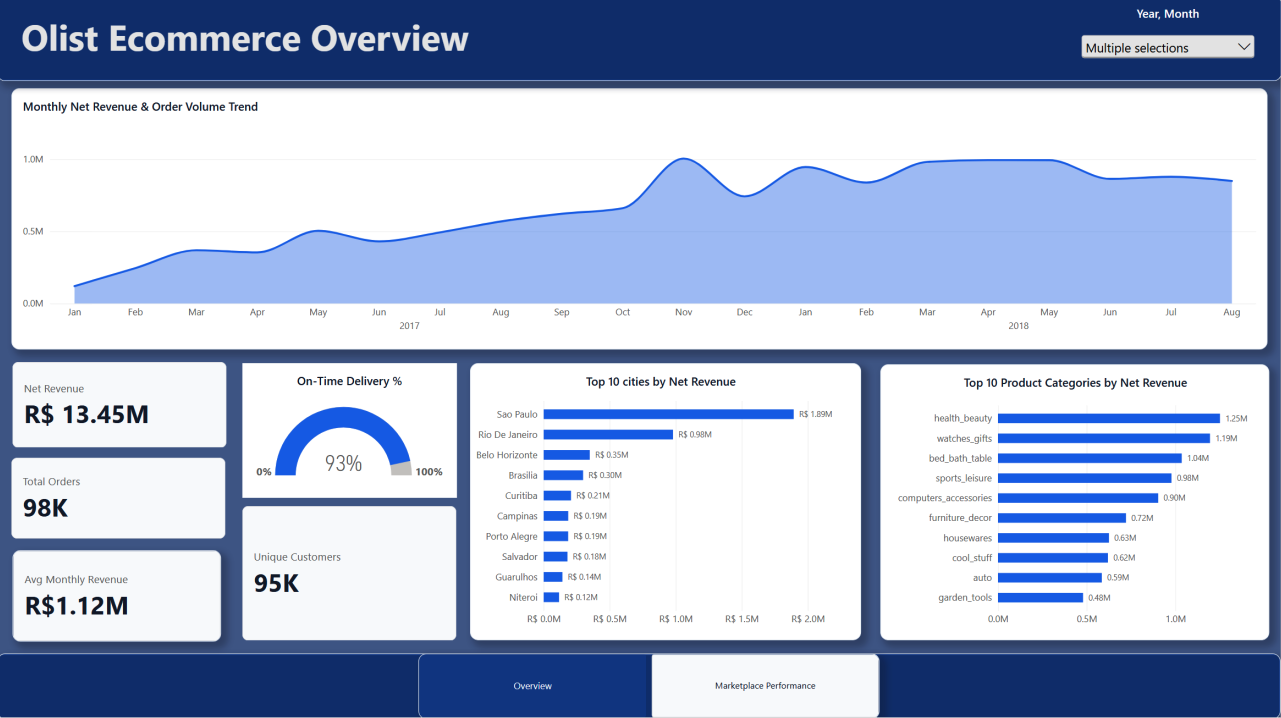

What the dashboard file says about the page in this screenshot:
{"tool":"powerbi","page":{"name":"Overview","canvas":[1920,1080],"ordinal":0},"visuals":[{"type":"cardVisual","fields":{"Data":["adworks_analytics sales_data.Net Revenue"]},"box":[23.3,548.6,321,128.4],"z":3},{"type":"cardVisual","fields":{"Data":["adworks_analytics sales_data.Total Orders"]},"box":[21.9,691.6,321,121.1],"z":4},{"type":"cardVisual","fields":{"Data":["adworks_analytics sales_data.Unique Customers"]},"box":[366.2,763,321,201.3],"z":5},{"type":"gauge","fields":{"Y":["adworks_analytics sales_data.On-Time Delivery %"]},"box":[366.2,550,321,201.3],"z":7},{"type":"areaChart","title":"Monthly Net Revenue & Order Volume Trend","fields":{"Category":["adworks_analytics sales_data.order_year","adworks_analytics sales_data.month_name"],"Y":["adworks_analytics sales_data.Net Revenue"]},"box":[21.9,138.6,1879.1,391],"z":8},{"type":"barChart","title":"Top 10 Product Categories by Net Revenue ","fields":{"Category":["adworks_analytics sales_data.category_name"],"Y":["adworks_analytics sales_data.Net Revenue"]},"box":[1320.4,551.5,582.1,412.9],"z":10},{"type":"clusteredBarChart","title":"Top 10 cities by Net Revenue","fields":{"Category":["adworks_analytics sales_data.customer_city"],"Y":["adworks_analytics sales_data.Net Revenue"]},"box":[707.6,550,585,414.3],"z":13},{"type":"shape","box":[0,0,1921.6,127.7],"z":14},{"type":"textbox","box":[36.5,24.8,732.6,76.6],"z":15},{"type":"slicer","title":"Year, Month","fields":{"Values":["adworks_analytics sales_data.order_year","adworks_analytics sales_data.month_name"]},"box":[1616.5,14.6,268.4,87.5],"z":16},{"type":"shape","box":[0,983.3,1920,97.8],"z":17},{"type":"pageNavigator","box":[630.3,983.3,690.1,97.8],"z":18},{"type":"cardVisual","fields":{"Data":["adworks_analytics sales_data.Avg Monthly Revenue"]},"box":[23.3,828.7,312.2,137.1],"z":19}]}

Visuals, with their boxes in screenshot pixels (x1, y1, x2, y2), scaled from the page's 1920x1080 canvas onto the 1281x718 screenshot:
cardVisual - adworks_analytics sales_data.Net Revenue: detection(16, 365, 230, 450)
cardVisual - adworks_analytics sales_data.Total Orders: detection(15, 460, 229, 540)
cardVisual - adworks_analytics sales_data.Unique Customers: detection(244, 507, 458, 641)
gauge - adworks_analytics sales_data.On-Time Delivery %: detection(244, 366, 458, 499)
"Monthly Net Revenue & Order Volume Trend" areaChart: detection(15, 92, 1268, 352)
"Top 10 Product Categories by Net Revenue " barChart: detection(881, 367, 1269, 641)
"Top 10 cities by Net Revenue" clusteredBarChart: detection(472, 366, 862, 641)
shape: detection(0, 0, 1280, 85)
textbox: detection(24, 16, 513, 67)
"Year, Month" slicer: detection(1079, 10, 1258, 68)
shape: detection(0, 654, 1280, 717)
pageNavigator: detection(421, 654, 881, 717)
cardVisual - adworks_analytics sales_data.Avg Monthly Revenue: detection(16, 551, 224, 642)
